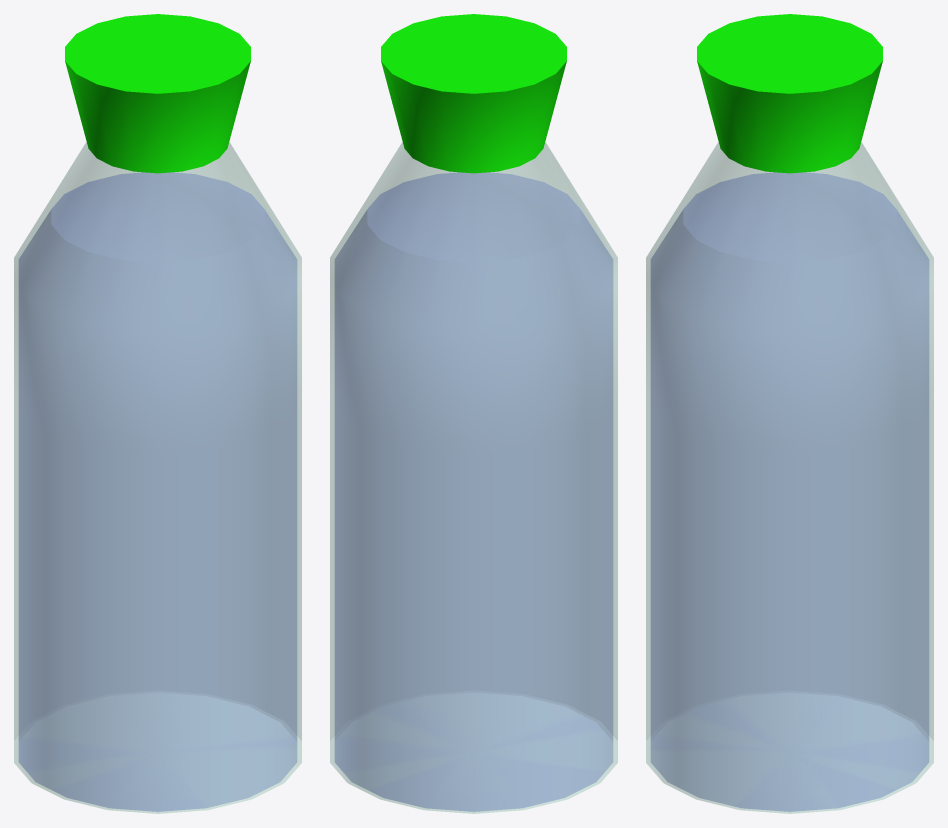
File: Anethesia Cart - Bottle Green.FBX
The picture shows the model from 3 angles, left to right: view 1: azimuth 30°, elevation 25°; view 2: azimuth 150°, elevation 25°; view 3: azimuth 270°, elevation 25°; orthographic projection.
Parts seen in each view (by area): view 1: BottleBlue019; view 2: BottleBlue019; view 3: BottleBlue019.
Part boxes in pixels (box(x1,y1,x2,y2)): BottleBlue019: box(14, 14, 301, 813); BottleBlue019: box(330, 14, 617, 813); BottleBlue019: box(646, 14, 933, 813).
Bounding box in the file's own units: 4.8 × 12.65 × 4.73.
